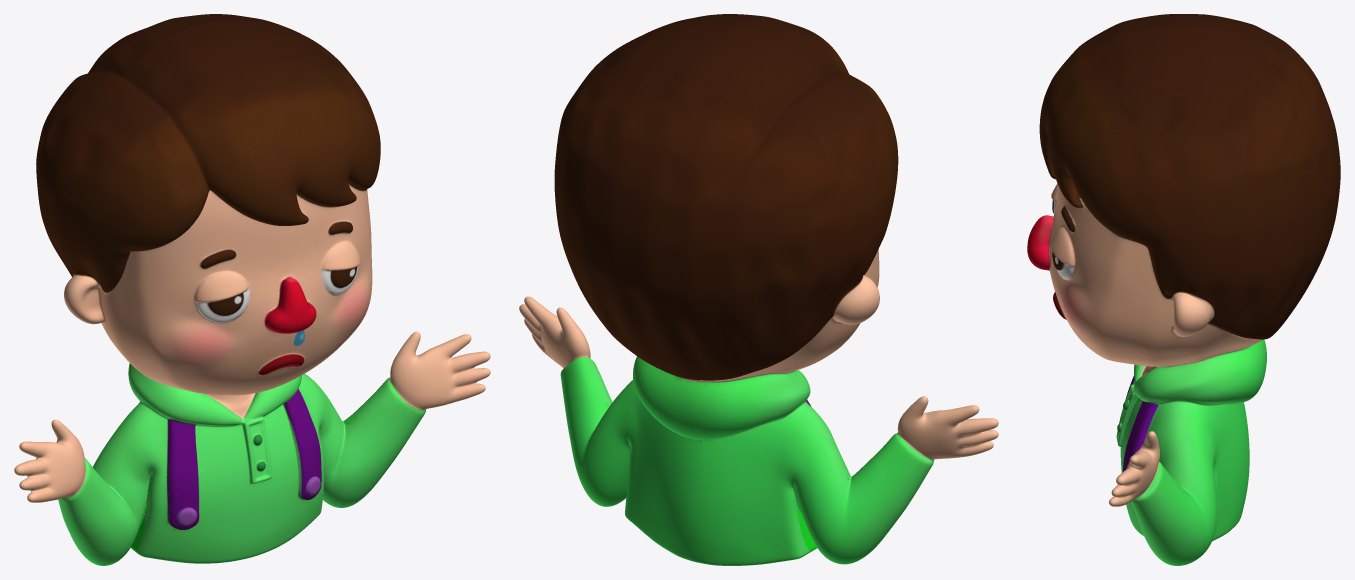
File: Meshy_AI_menino_gripado_torço_0409200356_texture.fbx
The picture shows the model from 3 angles, left to right: view 1: azimuth 30°, elevation 25°; view 2: azimuth 150°, elevation 25°; view 3: azimuth 270°, elevation 25°; orthographic projection. The views are drawn at different scales.
Parts seen in each view (by area): view 1: Mesh_0; view 2: Mesh_0; view 3: Mesh_0.
Part boxes in pixels (<box>): Mesh_0: <box>14,14,490,565</box>; Mesh_0: <box>519,14,998,565</box>; Mesh_0: <box>1027,14,1340,565</box>.
Bounding box in the file's own units: 183 × 190 × 109.
Materials: 1 (1 with a texture image).
